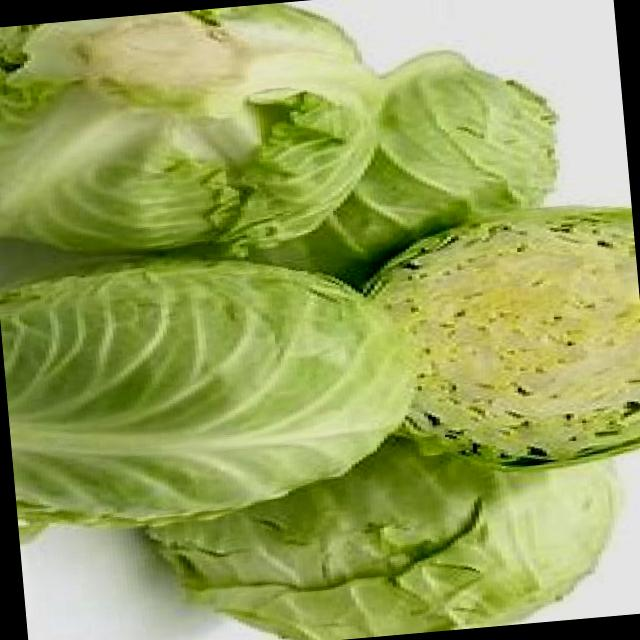cabbage: (0, 234, 411, 547), (0, 0, 394, 264), (378, 193, 640, 469)
